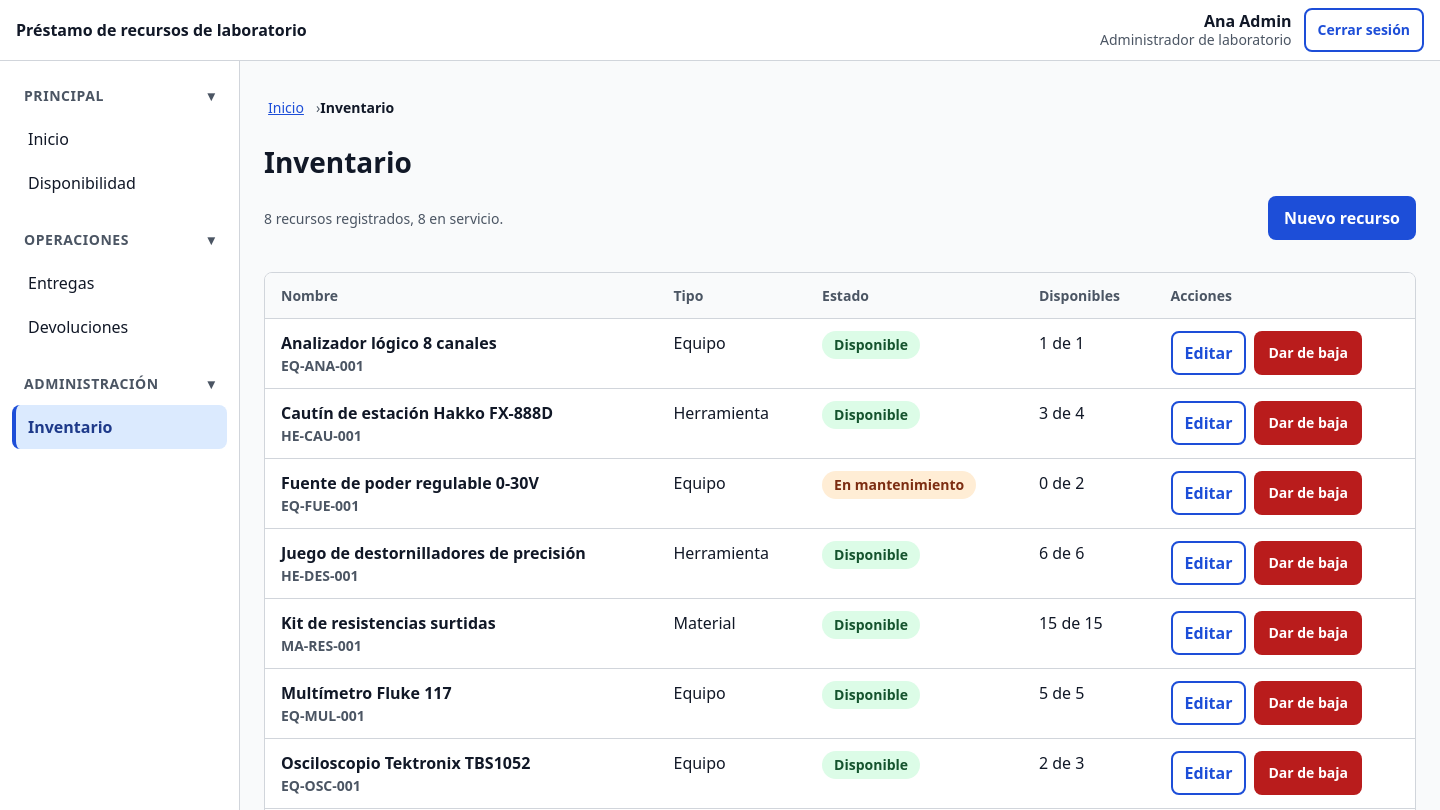
Test: pantalla de inventario › dar de baja (Req 4.9, 4.10) › pide confirmación y Cancelar no hace nada
This screenshot has width=1440, height=810.
Click the button with aria-label "Dar de baja Kit de resistencias surtidas".
click(1308, 633)  # box left=1254, top=611, right=1362, bottom=655
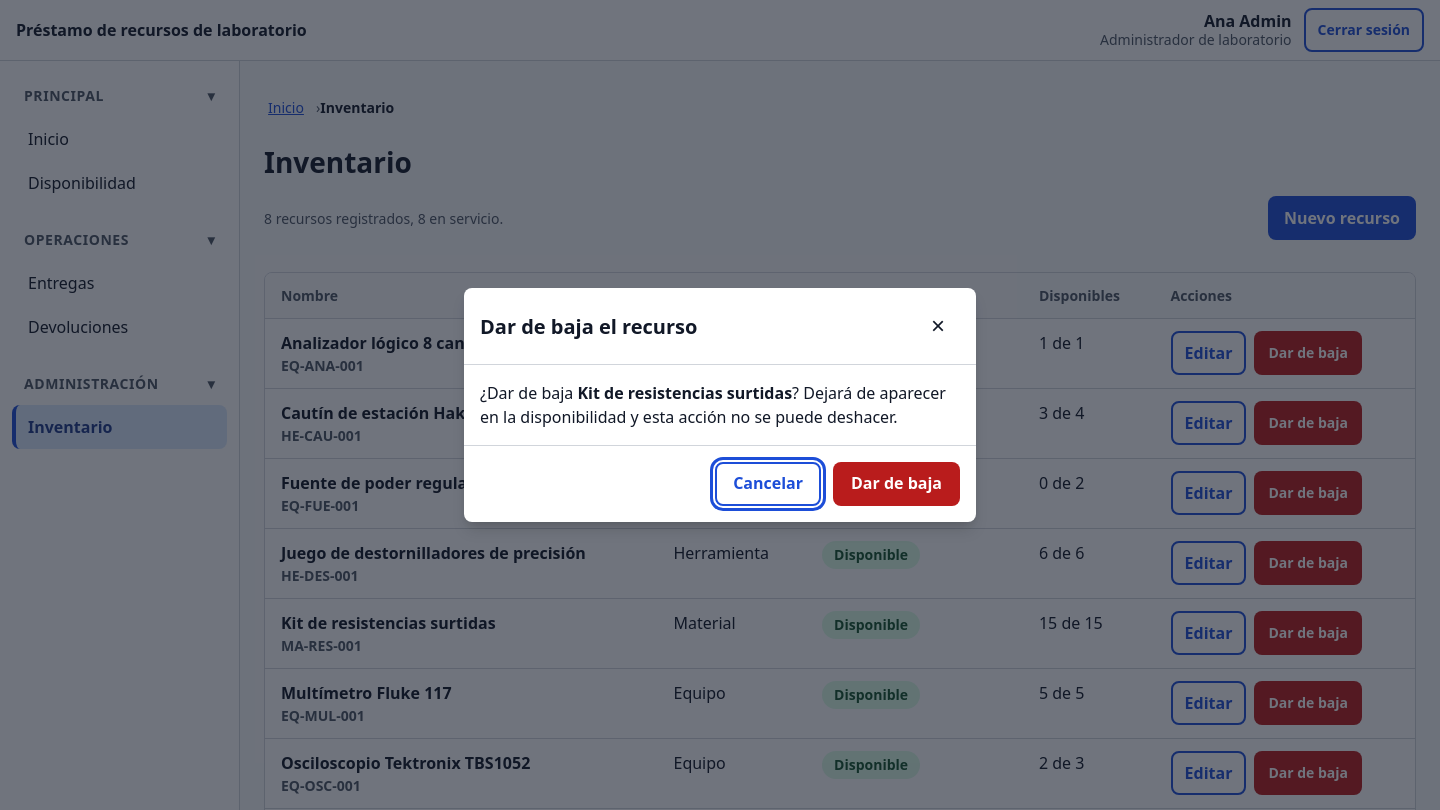
Now the text "Kit de resistencias surtidas" is shown, box left=578, top=382, right=792, bottom=404
Click the button "Cancelar".
click(768, 484)  # box left=715, top=462, right=821, bottom=506
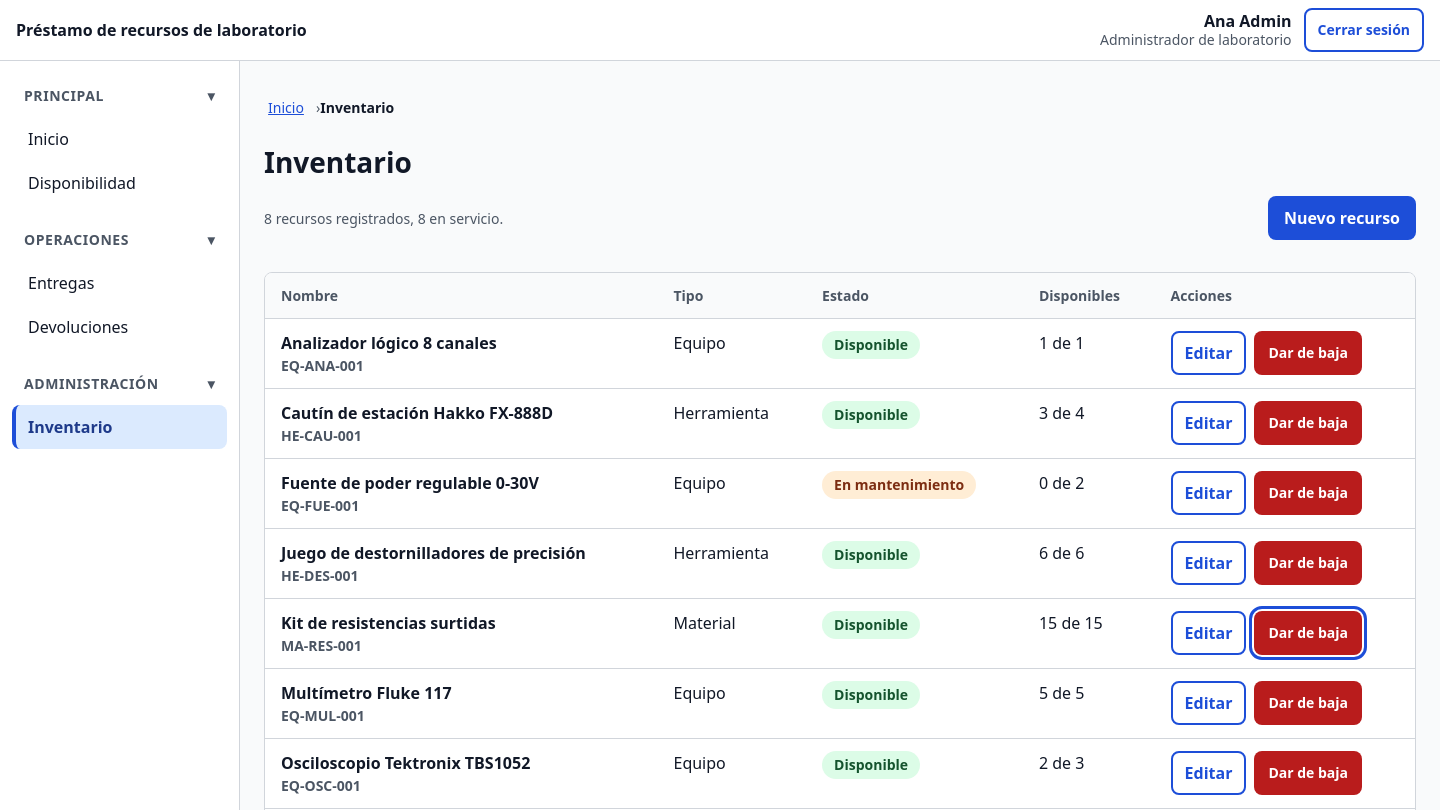
Expected: the text "Disponible" in the row of "Analizador lógico 8 canales" is shown, left=834, top=335, right=908, bottom=354
Now the dialog is gone
